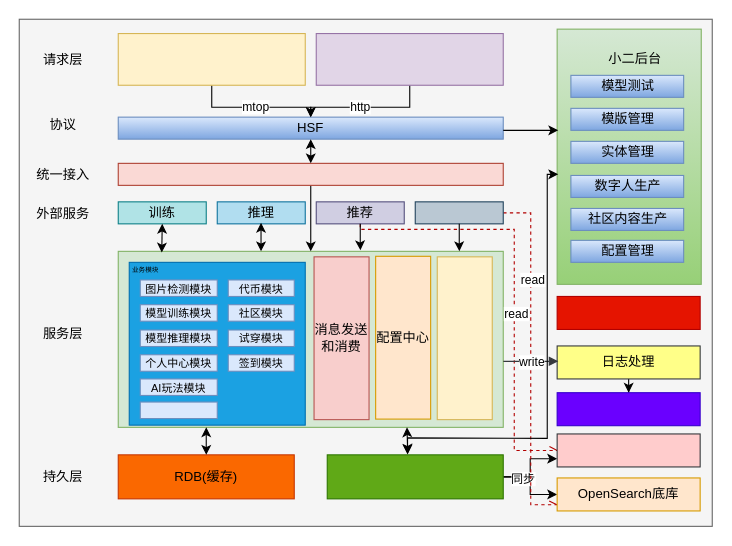
This 732x546 diagram has some shape labels left out. The centre of each missing label's shape, as x and y in pixels:
"BI系统" belongs at (628,409).
"DB(data Source)" belongs at (414,476).
"任务中心模块" belongs at (178,410).
"告警系统" belongs at (628,312).
"定时任务" belongs at (464,338).
"客户端 IOS Android 鸿蒙 小程序（微信、抖音、支付宝、钉钉 ）" belongs at (211,58).
"搜索" belongs at (458,212).
"数据处理（odps）" belongs at (628,450).
"登录校验 数据隔离 日志打印" belongs at (310,173).
"网站" belongs at (409,58).
